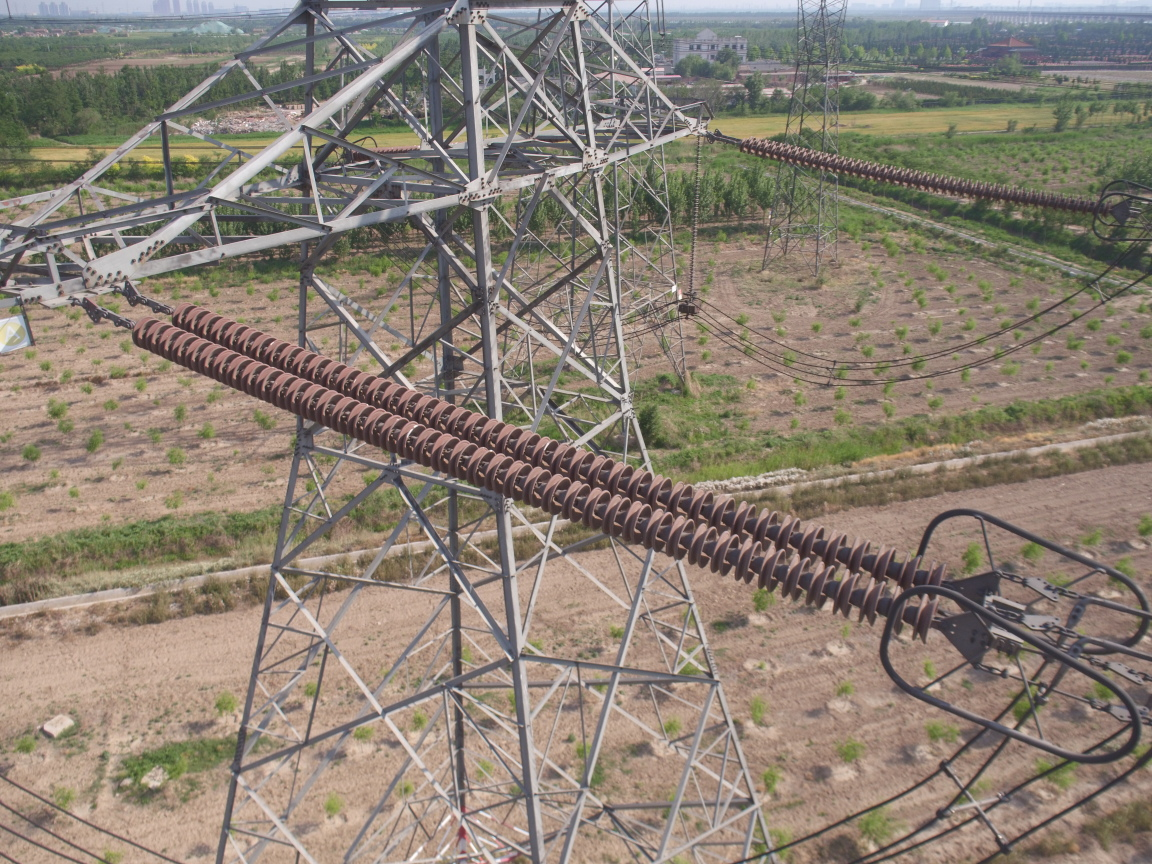insulator: (111, 295, 962, 644), (739, 133, 1114, 222)
